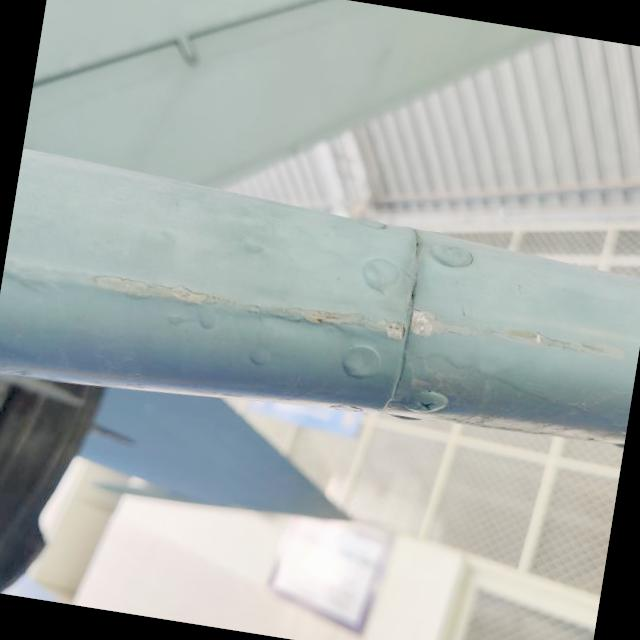paint-off: (270, 278, 487, 362), (80, 260, 230, 327), (486, 314, 632, 366)
